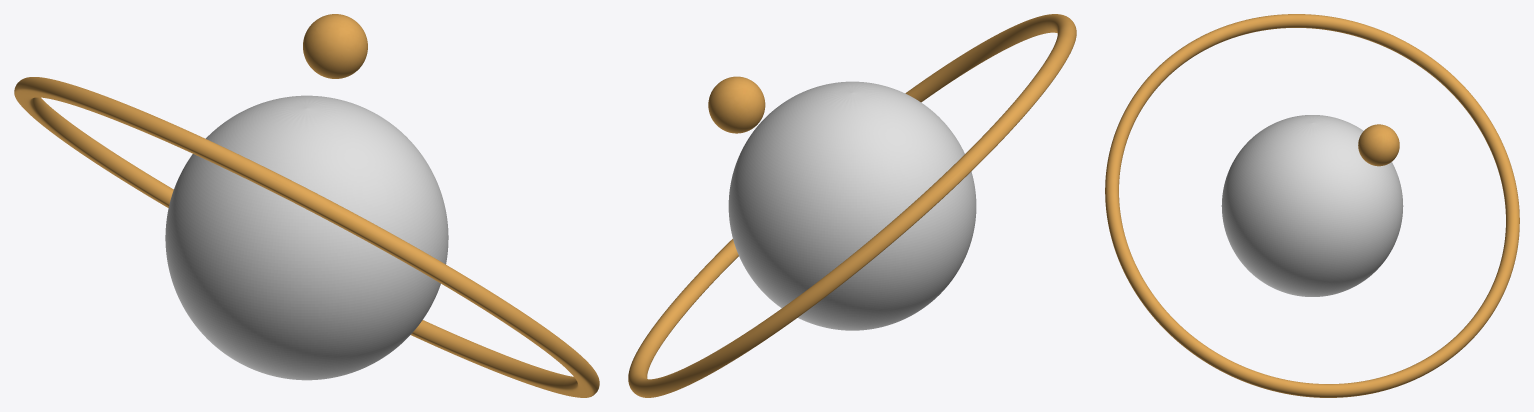
File: Planet.glb
3 views of the same model, side by side, from view 1: azimuth 30°, elevation 25°; view 2: azimuth 150°, elevation 25°; view 3: azimuth 270°, elevation 25° (orthographic). The views are drawn at different scales.
Parts seen in each view (by area): view 1: Sphere, Ring, Sphere2; view 2: Sphere, Ring, Sphere2; view 3: Sphere, Ring, Sphere2.
Boxes of the visible parts, x1=… form: Sphere: x1=165, y1=95, x2=448, y2=380; Ring: x1=14, y1=77, x2=599, y2=397; Sphere2: x1=303, y1=14, x2=367, y2=78; Sphere: x1=728, y1=81, x2=976, y2=330; Ring: x1=628, y1=14, x2=1076, y2=397; Sphere2: x1=708, y1=76, x2=765, y2=133; Sphere: x1=1221, y1=115, x2=1403, y2=296; Ring: x1=1105, y1=14, x2=1519, y2=397; Sphere2: x1=1358, y1=124, x2=1399, y2=166.
Bounding box in the file's own units: 3.58 × 3.06 × 4.52.
Materials: 3 (2 with a texture image).
